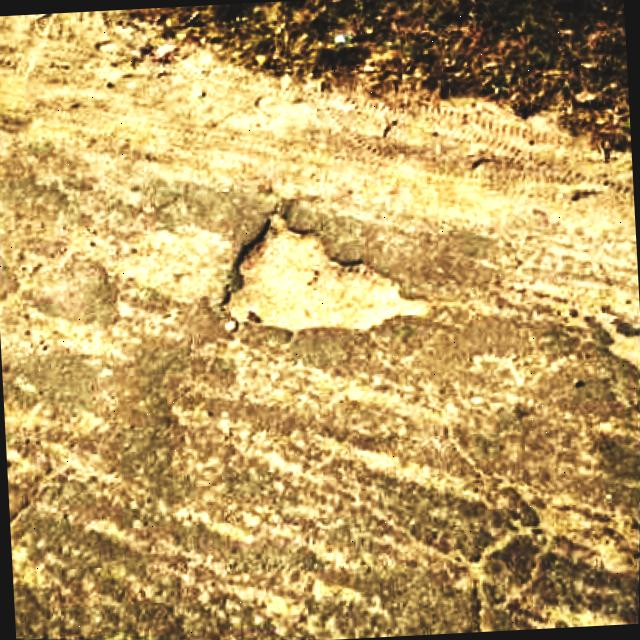pothole: (212, 200, 440, 341), (0, 215, 230, 338), (582, 293, 640, 378)
